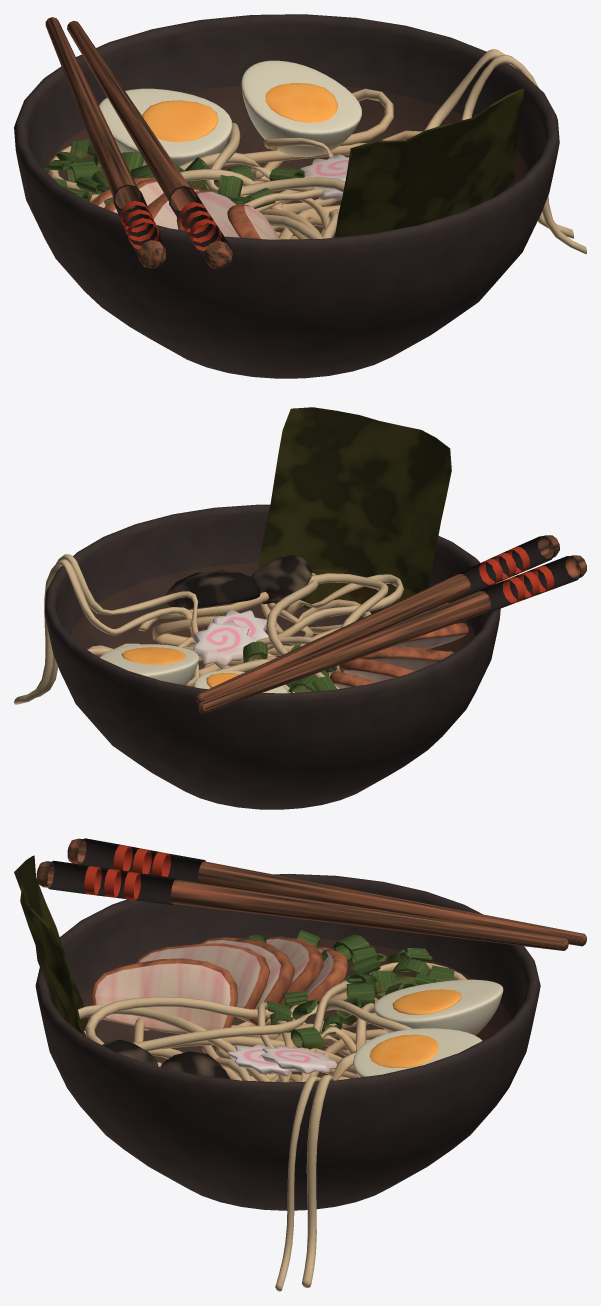
Rendered from ramen.glb.
The picture shows the model from 3 angles, top to bottom: view 1: azimuth 30°, elevation 25°; view 2: azimuth 150°, elevation 25°; view 3: azimuth 270°, elevation 25°; orthographic projection. The views are drawn at different scales.
Visible parts, largest first — view 1: Cylinder_2, Plane_14, BezierCurve.009_22, chopstick_15, chopstick.001_16, Cylinder.001_4, scallion.026_13, Cylinder.002_6, BezierCurve.001_24, Cube.005_7, Cube.006_5, BezierCurve.011_23 (+5 smaller); view 2: Cylinder_2, Plane_14, chopstick.001_16, BezierCurve.009_22, chopstick_15, Cube.007_10, BezierCurve.011_23, BezierCurve.001_24, Circle.002_9, Cylinder.001_4, Cube.008_11, Cube.001_18 (+5 smaller); view 3: Cylinder_2, chopstick_15, BezierCurve.009_22, chopstick.001_16, Cube.003_20, scallion.026_13, Plane_14, Cylinder.002_6, Cube.002_19, BezierCurve.011_23, BezierCurve.001_24, Cylinder.001_4 (+9 smaller).
Part boxes in pixels (x1=…): Cylinder_2: x1=14, y1=14, x2=559, y2=378; Plane_14: x1=335, y1=88, x2=524, y2=237; BezierCurve.009_22: x1=48, y1=88, x2=422, y2=239; chopstick_15: x1=67, y1=21, x2=232, y2=269; chopstick.001_16: x1=45, y1=17, x2=166, y2=268; Cylinder.001_4: x1=241, y1=60, x2=361, y2=157; scallion.026_13: x1=42, y1=139, x2=304, y2=208; Cylinder.002_6: x1=99, y1=88, x2=231, y2=166; BezierCurve.001_24: x1=244, y1=54, x2=586, y2=254; Cube.005_7: x1=142, y1=100, x2=218, y2=142; Cube.006_5: x1=265, y1=83, x2=337, y2=122; BezierCurve.011_23: x1=180, y1=49, x2=573, y2=239; Cylinder_2: x1=44, y1=504, x2=500, y2=809; Plane_14: x1=258, y1=407, x2=451, y2=615; chopstick.001_16: x1=198, y1=555, x2=586, y2=713; BezierCurve.009_22: x1=87, y1=573, x2=451, y2=693; chopstick_15: x1=196, y1=535, x2=559, y2=703; Cube.007_10: x1=164, y1=570, x2=260, y2=608; BezierCurve.011_23: x1=14, y1=559, x2=339, y2=704; BezierCurve.001_24: x1=36, y1=554, x2=338, y2=697; Circle.002_9: x1=193, y1=620, x2=253, y2=666; Cylinder.001_4: x1=99, y1=644, x2=199, y2=685; Cube.008_11: x1=251, y1=555, x2=311, y2=604; Cube.001_18: x1=360, y1=646, x2=454, y2=671; Cylinder_2: x1=35, y1=874, x2=540, y2=1210; chopstick_15: x1=36, y1=860, x2=568, y2=950; BezierCurve.009_22: x1=78, y1=962, x2=467, y2=1082; chopstick.001_16: x1=67, y1=838, x2=586, y2=946; Cube.003_20: x1=91, y1=958, x2=237, y2=1034; scallion.026_13: x1=244, y1=930, x2=454, y2=1049; Plane_14: x1=14, y1=855, x2=87, y2=1037; Cylinder.002_6: x1=373, y1=979, x2=503, y2=1035; Cube.002_19: x1=137, y1=943, x2=269, y2=1009; BezierCurve.011_23: x1=272, y1=980, x2=350, y2=1287; BezierCurve.001_24: x1=235, y1=1002, x2=319, y2=1291; Cylinder.001_4: x1=353, y1=1028, x2=482, y2=1077.
Size of the model in its own units: 2.36 by 1.24 by 2.28.
25 materials, 21 textured.
